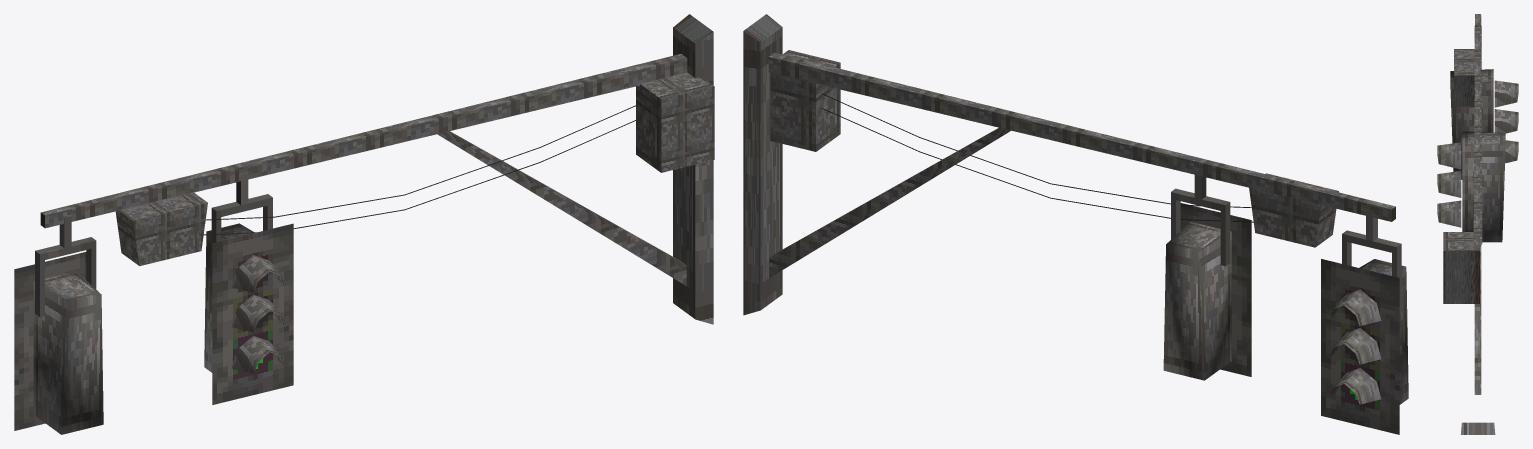
Rendered from M2_TrafficLights.glb.
3 renders of one model, left to right at view 1: azimuth 30°, elevation 25°; view 2: azimuth 150°, elevation 25°; view 3: azimuth 270°, elevation 25°, orthographic. The views are drawn at different scales.
Visible parts, largest first — view 1: M2_TRAFFICLIGHTS; view 2: M2_TRAFFICLIGHTS; view 3: M2_TRAFFICLIGHTS.
Part boxes in pixels (x1=…): M2_TRAFFICLIGHTS: x1=14, y1=14, x2=714, y2=434; M2_TRAFFICLIGHTS: x1=743, y1=14, x2=1408, y2=434; M2_TRAFFICLIGHTS: x1=1437, y1=14, x2=1518, y2=434.
Bounding box in the file's own units: 3.92 × 1.62 × 0.566.
Materials: 4 (4 with a texture image).
